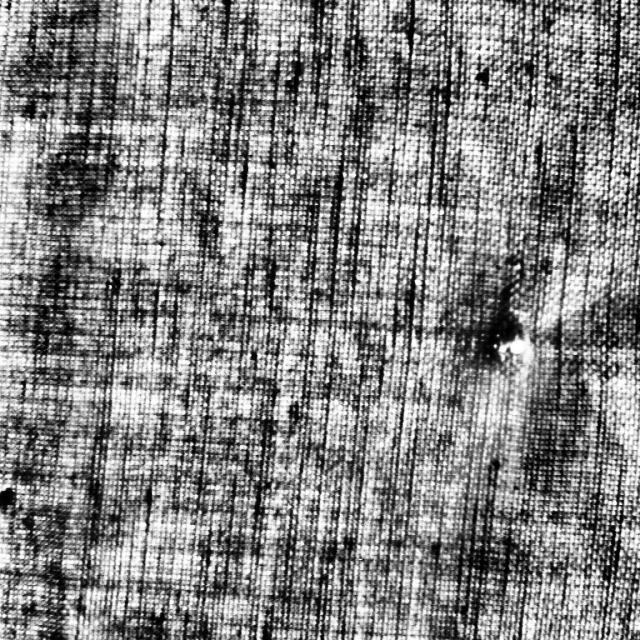Hole: (483, 317, 528, 365)
